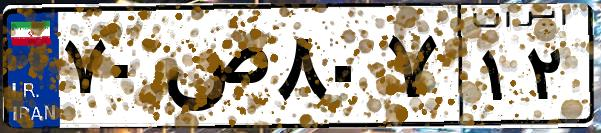0: (330, 28, 385, 110), (110, 28, 158, 98)
1: (475, 38, 525, 113)
2: (525, 38, 570, 115)
7: (385, 28, 445, 110), (57, 26, 110, 100)
8: (270, 28, 330, 110)
ص: (158, 20, 270, 120)
